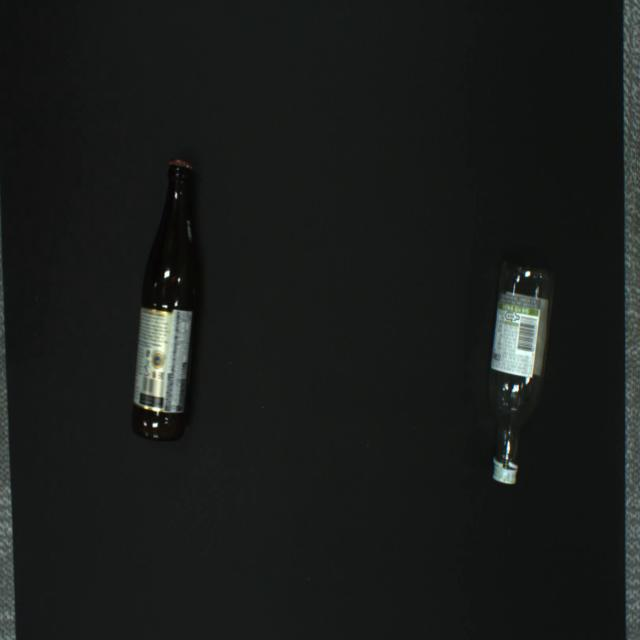beer-bottle: (131, 159, 200, 443)
soju-bottle: (489, 264, 554, 485)
